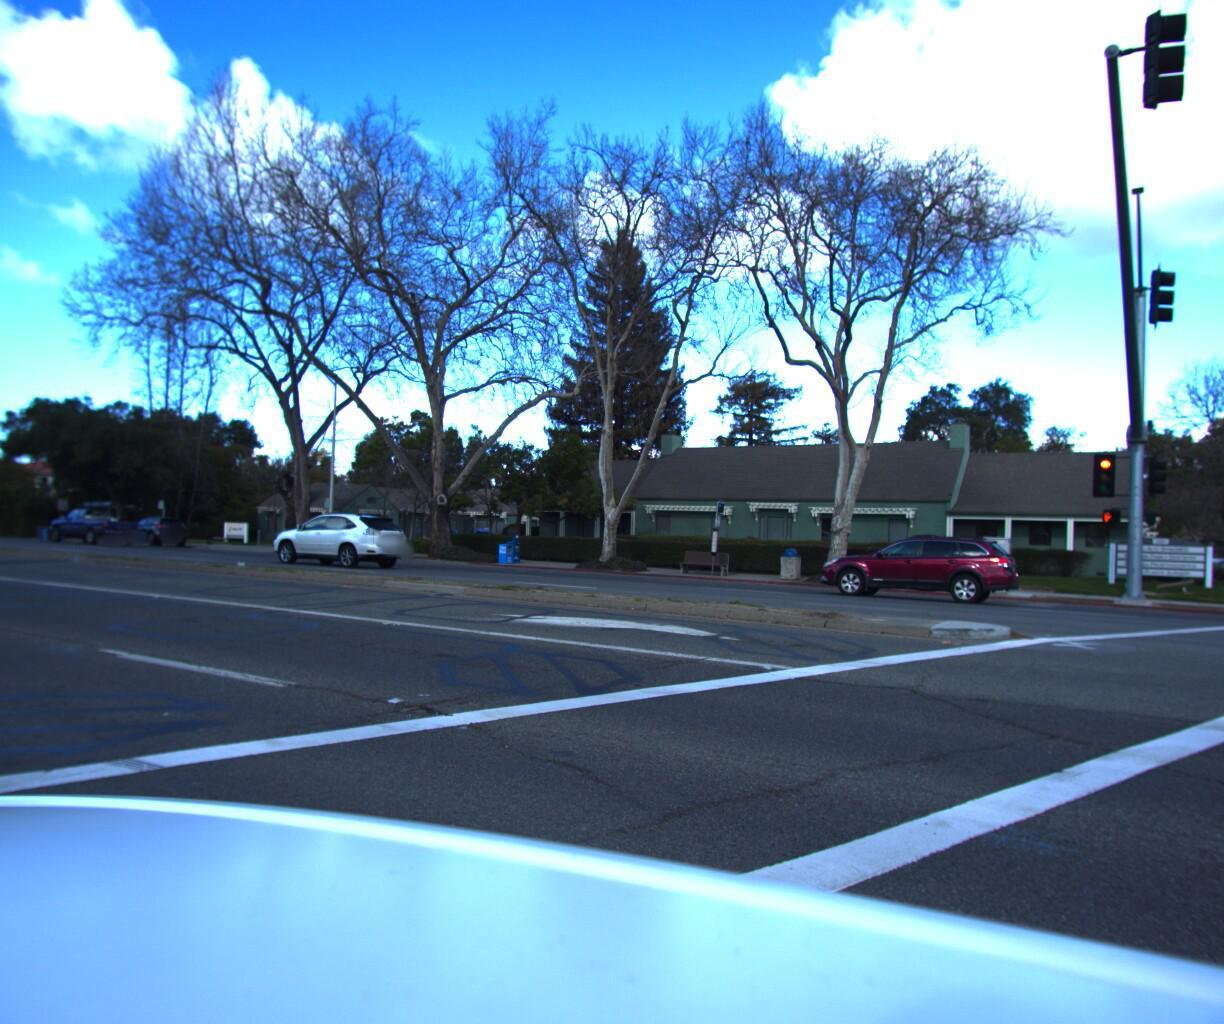car: (818, 525, 1029, 605), (260, 506, 419, 566), (43, 497, 148, 544), (111, 511, 187, 544)
